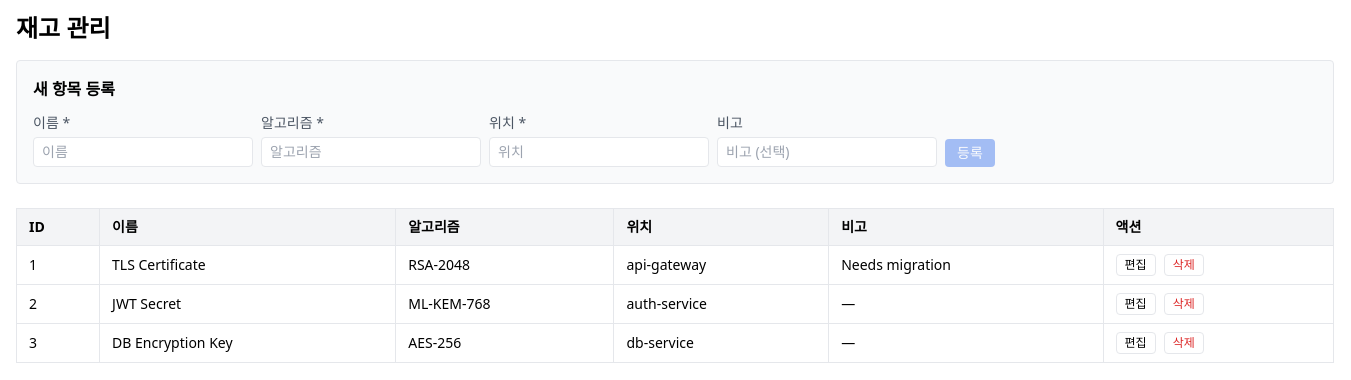
Scenario: InventoryPage › 삭제 버튼 클릭 시 confirm UI 표시 후 삭제
Expected: the text "TLS Certificate" is shown, [100,246,396,284]
Click the button with aria-label "삭제 TLS Certificate": [1184, 265] box [1164,254,1204,276]
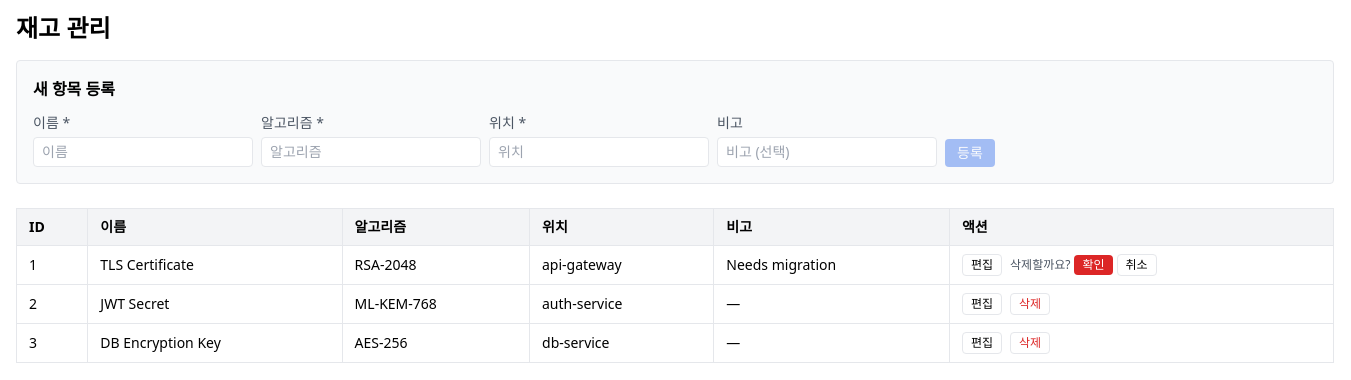
Expected: the text "삭제할까요?" is shown, [1010,256,1070,273]
Click the button with aria-label "삭제 확인 TLS Certificate": [1094, 265] box [1074,255,1113,275]
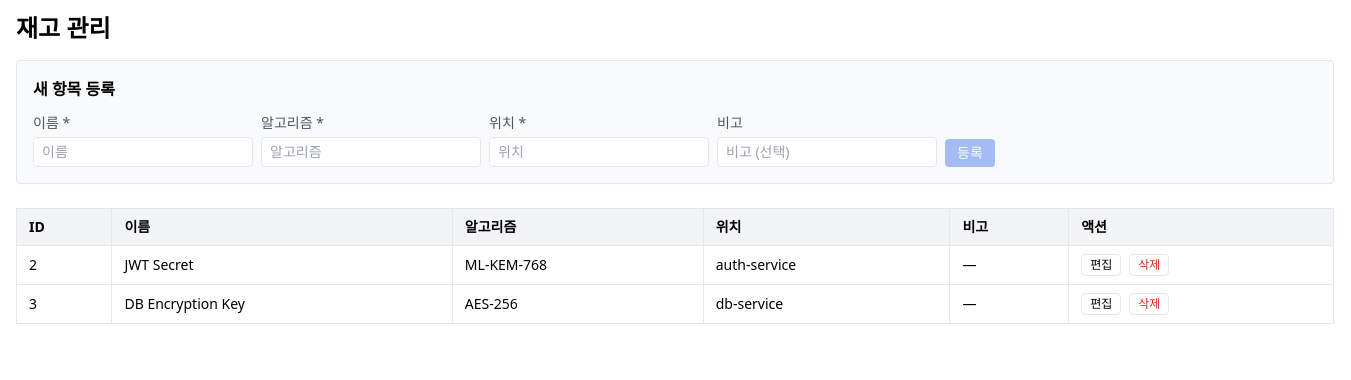
Expected: the text "TLS Certificate" is gone
